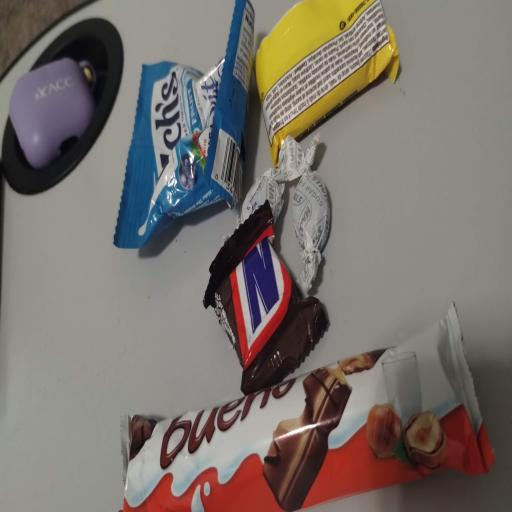chocolate: (122, 306, 494, 511), (114, 0, 254, 247), (255, 0, 399, 165), (204, 201, 327, 393), (237, 134, 319, 227), (292, 170, 330, 292)
